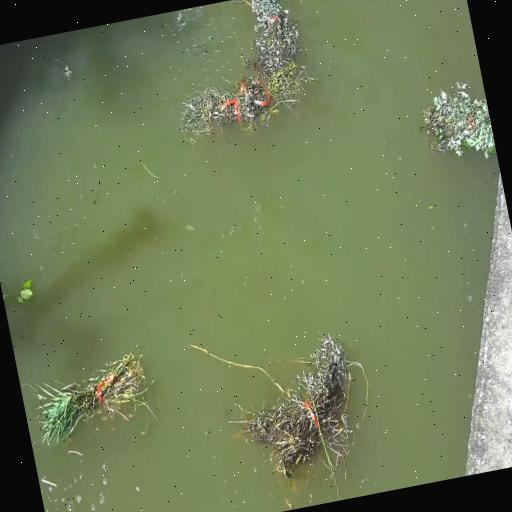twig: (206, 322, 377, 500), (22, 342, 160, 450), (172, 59, 318, 146), (416, 78, 497, 168), (236, 0, 308, 78)
